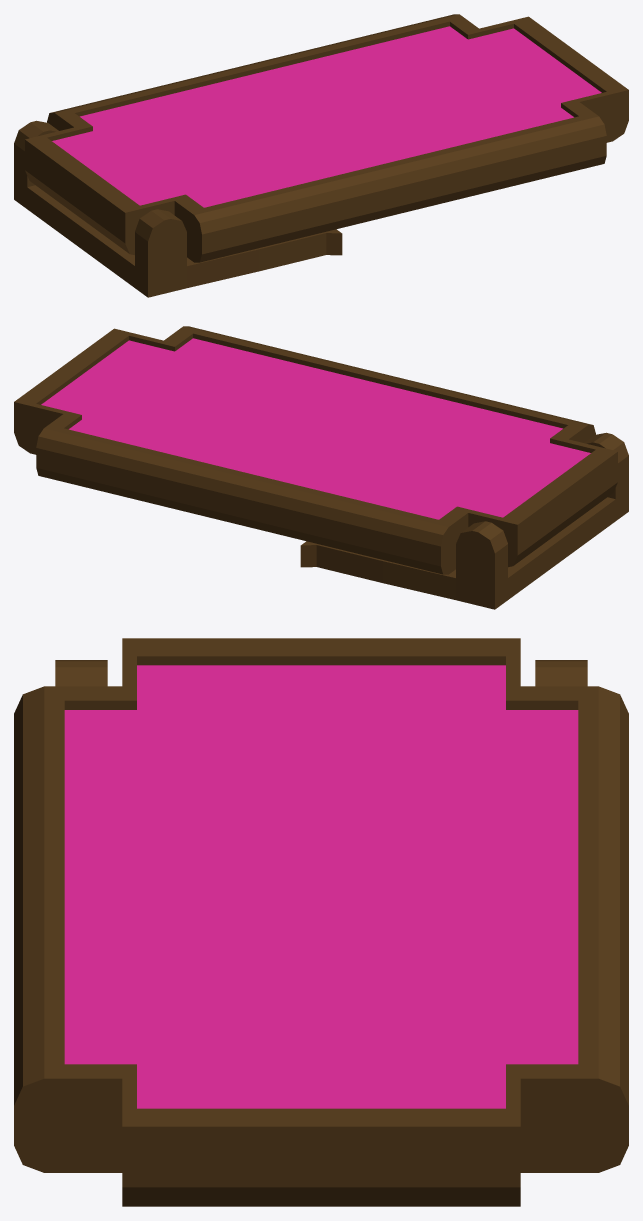
File: AlchemyTable.fbx
3 views of the same model, one above another, from view 1: azimuth 30°, elevation 25°; view 2: azimuth 150°, elevation 25°; view 3: azimuth 270°, elevation 25° (orthographic). The views are drawn at different scales.
Visible parts, largest first — view 1: Table, Legs; view 2: Table, Legs; view 3: Table, Legs.
Part boxes in pixels (bbox=[...]): Table: bbox=[25, 14, 628, 262]; Legs: bbox=[14, 120, 342, 297]; Table: bbox=[14, 326, 617, 574]; Legs: bbox=[300, 432, 628, 609]; Table: bbox=[14, 638, 628, 1206]; Legs: bbox=[55, 660, 587, 686].
Size of the model in its own units: 200 by 28.07 by 106.
